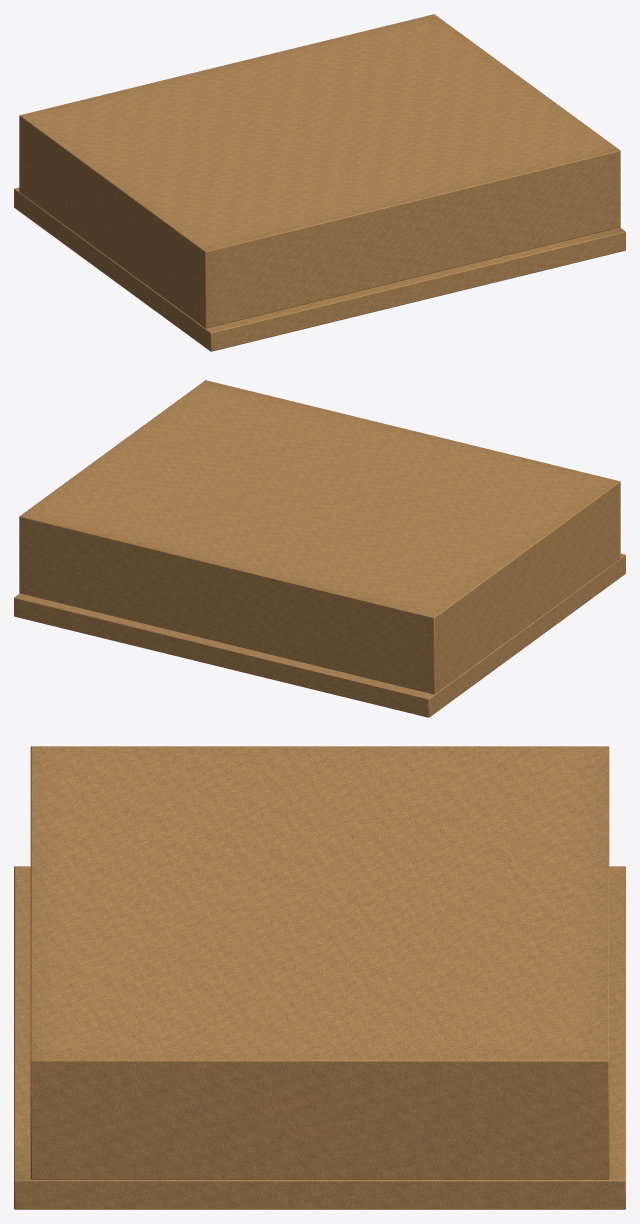
Rendered from 7-top-box-bottom-right.fbx.
3 renders of one model, top to bottom at view 1: azimuth 30°, elevation 25°; view 2: azimuth 150°, elevation 25°; view 3: azimuth 270°, elevation 25°, orthographic. The views are drawn at different scales.
Parts seen in each view (by area): view 1: top-box-bottom-right; view 2: top-box-bottom-right; view 3: top-box-bottom-right.
Boxes of the visible parts, x1,y1,x2,y2 form: top-box-bottom-right: [14, 14, 625, 351]; top-box-bottom-right: [14, 380, 625, 717]; top-box-bottom-right: [14, 746, 625, 1209].
Bounding box in the file's own units: 9000 × 2000 × 7400.
Materials: 1 (1 with a texture image).
